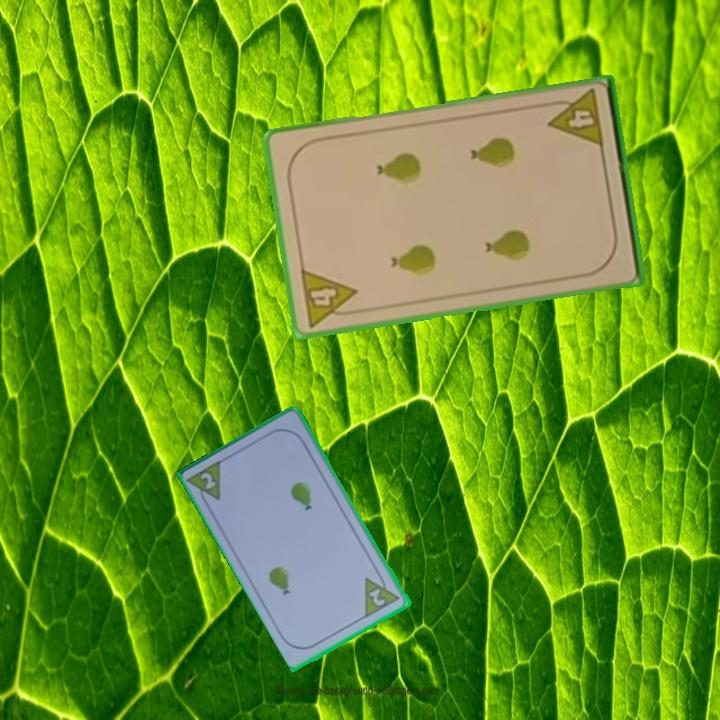2p: (361, 568, 403, 620), (197, 469, 219, 493)
4p: (297, 265, 362, 330), (543, 86, 607, 151)
